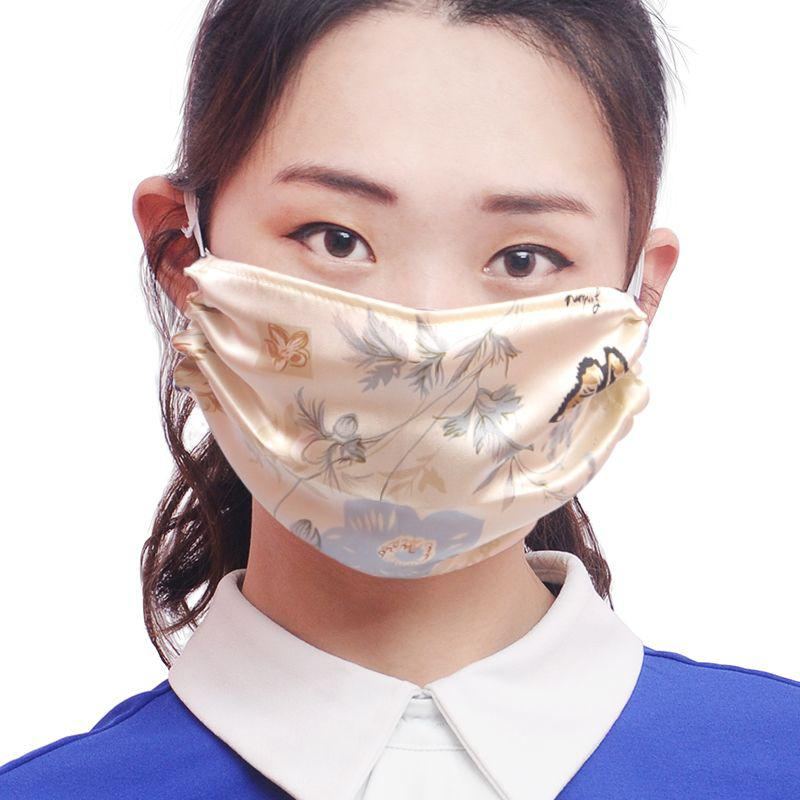OK: (228, 148, 655, 575)
